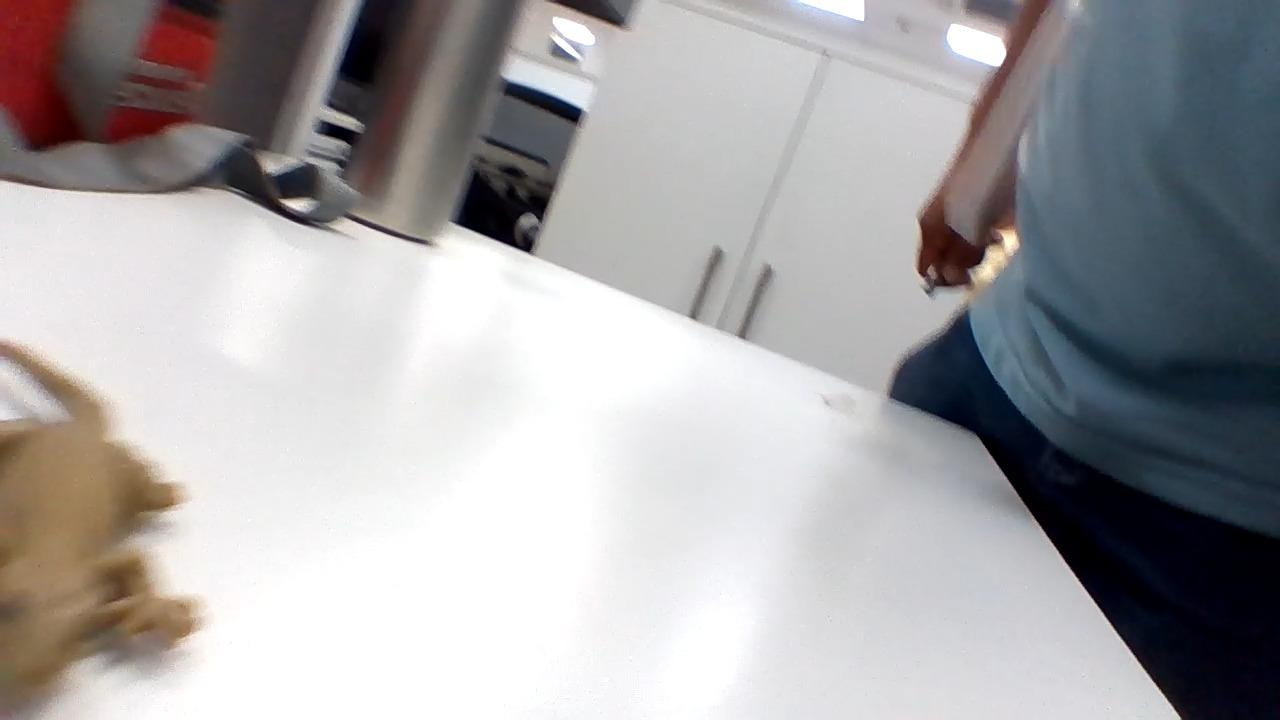lizard: (0, 329, 201, 711)
